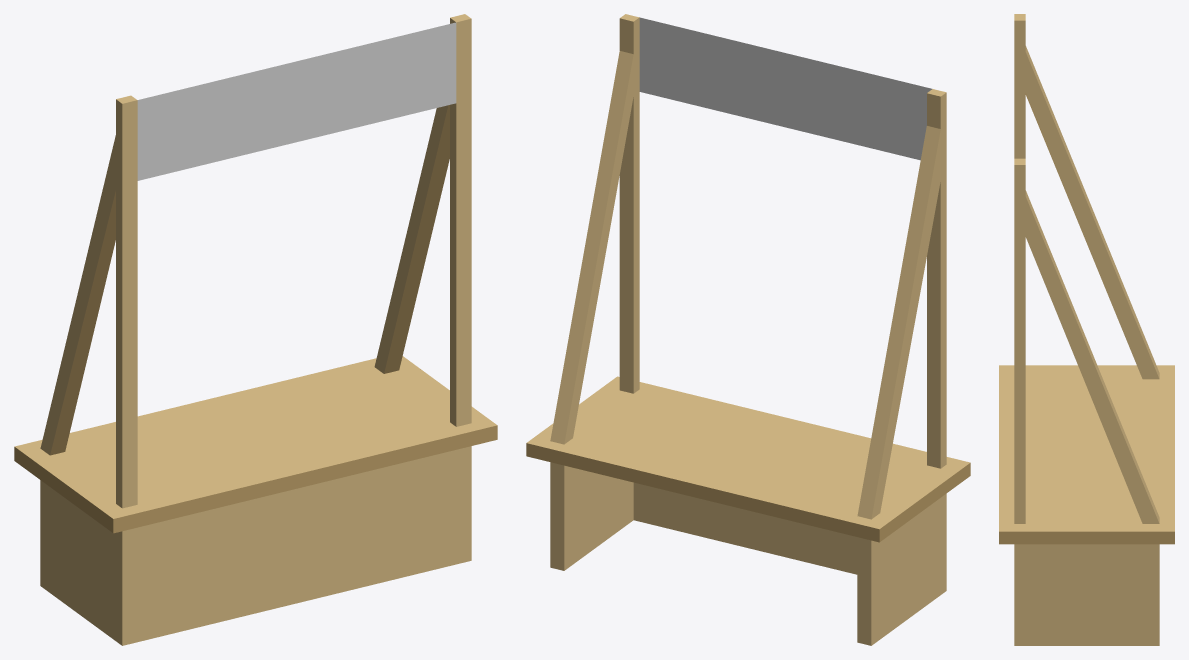
Rendered from Cash Register.glb.
The picture shows the model from 3 angles, left to right: view 1: azimuth 30°, elevation 25°; view 2: azimuth 150°, elevation 25°; view 3: azimuth 270°, elevation 25°; orthographic projection. The views are drawn at different scales.
Visible parts, largest first — view 1: Cash Register; view 2: Cash Register; view 3: Cash Register.
Boxes of the visible parts, left/top/right/bottom form: Cash Register: left=14, top=14, right=497, bottom=645; Cash Register: left=526, top=14, right=970, bottom=645; Cash Register: left=999, top=14, right=1174, bottom=645.
Size of the model in its own units: 2.48 by 3.35 by 1.11.
Materials: 1 (1 with a texture image).
